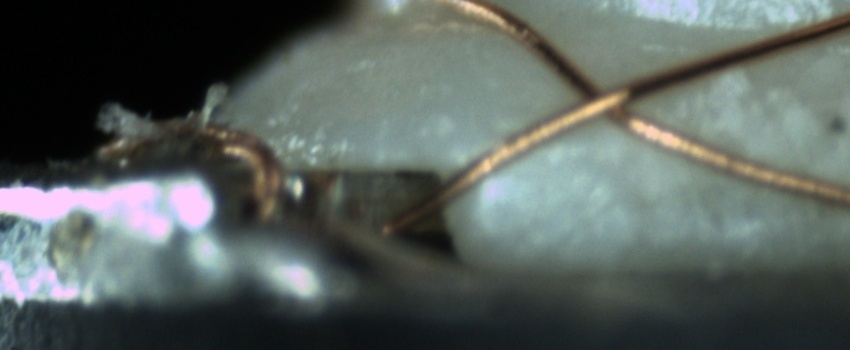CL: (555, 61, 660, 136)
DL: (475, 121, 617, 181)
TE: (98, 117, 293, 220)
